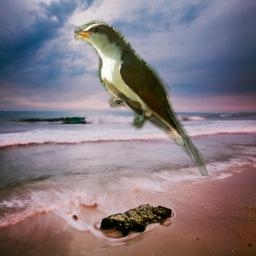Cuckoo: (74, 19, 210, 176)
